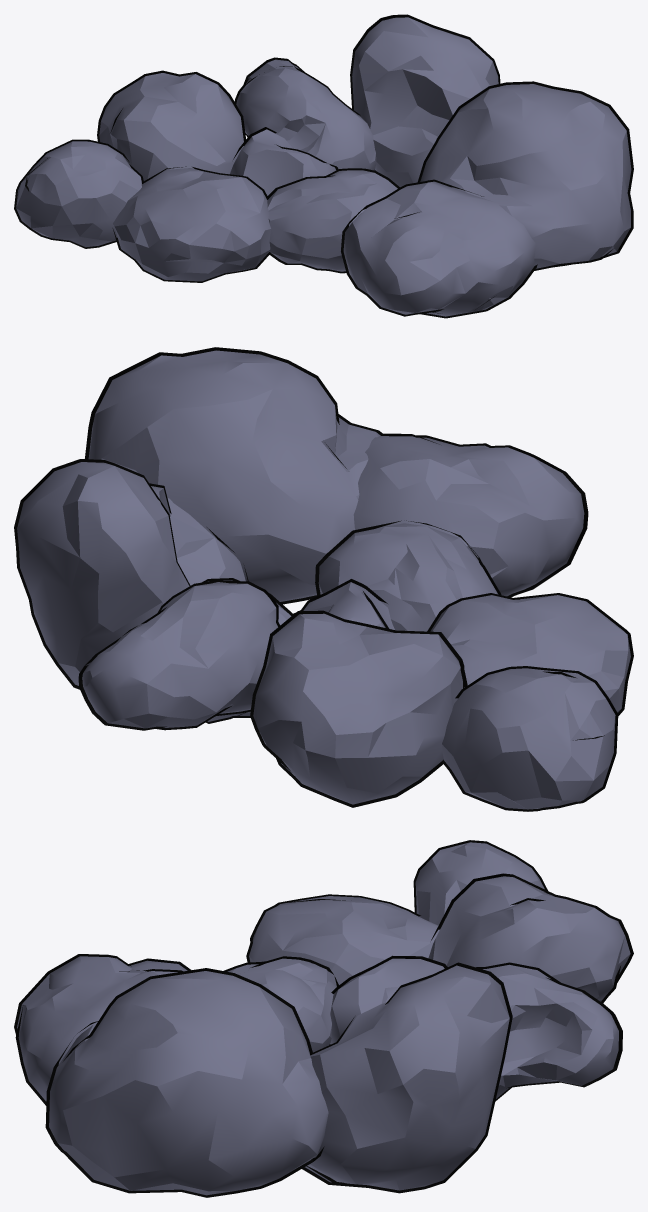
Rendered from Stones_pack.fbx.
3 views of the same model, one above another, from view 1: azimuth 30°, elevation 25°; view 2: azimuth 150°, elevation 25°; view 3: azimuth 270°, elevation 25° (orthographic). The views are drawn at different scales.
Visible parts, largest first — view 1: Stone4, Stone2, Stone3, Stone8, Stone7, Stone9, Stone6, Stone1, Stone5; view 2: Stone4, Stone7, Stone3, Stone2, Stone6, Stone9, Stone8, Stone1, Stone5; view 3: Stone4, Stone3, Stone7, Stone6, Stone8, Stone2, Stone9, Stone1, Stone5.
Boxes of the visible parts, x1=… form: Stone4: x1=418, y1=81, x2=633, y2=270; Stone2: x1=341, y1=179, x2=537, y2=318; Stone3: x1=350, y1=14, x2=500, y2=187; Stone8: x1=112, y1=166, x2=270, y2=282; Stone7: x1=97, y1=70, x2=245, y2=180; Stone9: x1=14, y1=139, x2=143, y2=248; Stone6: x1=234, y1=57, x2=376, y2=170; Stone1: x1=266, y1=168, x2=399, y2=273; Stone5: x1=230, y1=127, x2=338, y2=195; Stone4: x1=85, y1=347, x2=385, y2=604; Stone7: x1=250, y1=610, x2=467, y2=807; Stone3: x1=14, y1=459, x2=248, y2=689; Stone2: x1=353, y1=433, x2=588, y2=597; Stone6: x1=78, y1=578, x2=293, y2=730; Stone9: x1=441, y1=666, x2=618, y2=811; Stone8: x1=427, y1=593, x2=633, y2=715; Stone1: x1=315, y1=520, x2=501, y2=631; Stone5: x1=293, y1=579, x2=394, y2=629; Stone4: x1=45, y1=968, x2=328, y2=1197; Stone3: x1=302, y1=962, x2=512, y2=1193; Stone7: x1=428, y1=873, x2=633, y2=1003; Stone6: x1=476, y1=962, x2=622, y2=1101; Stone8: x1=246, y1=894, x2=439, y2=986; Stone2: x1=14, y1=954, x2=191, y2=1105; Stone9: x1=413, y1=840, x2=547, y2=925; Stone1: x1=224, y1=956, x2=338, y2=1052; Stone5: x1=330, y1=955, x2=447, y2=1044.
Bounding box in the file's own units: 1221 × 433 × 1113.
